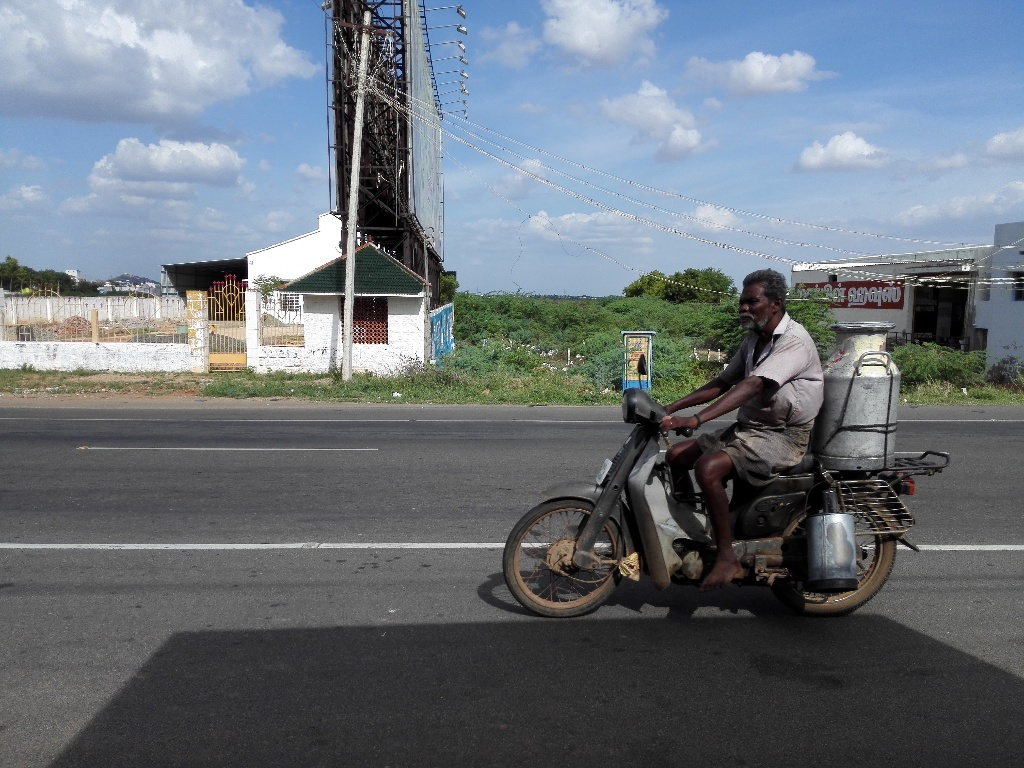biker: (487, 215, 957, 637)
nohelmet: (732, 255, 806, 358)
